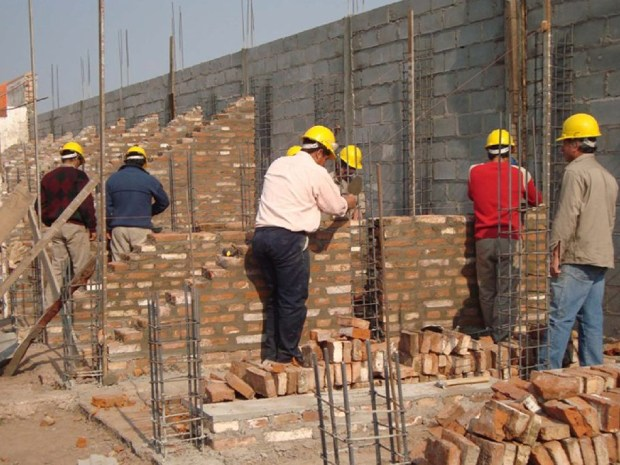casco: (554, 112, 603, 143), (300, 124, 339, 162), (484, 128, 518, 156), (336, 144, 364, 171), (122, 144, 149, 171), (58, 140, 87, 165), (285, 144, 301, 157)
